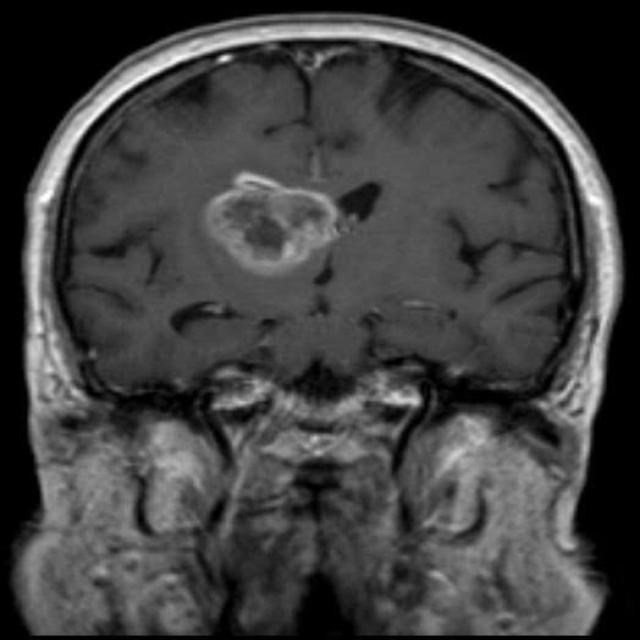glioma: (188, 164, 368, 285)
